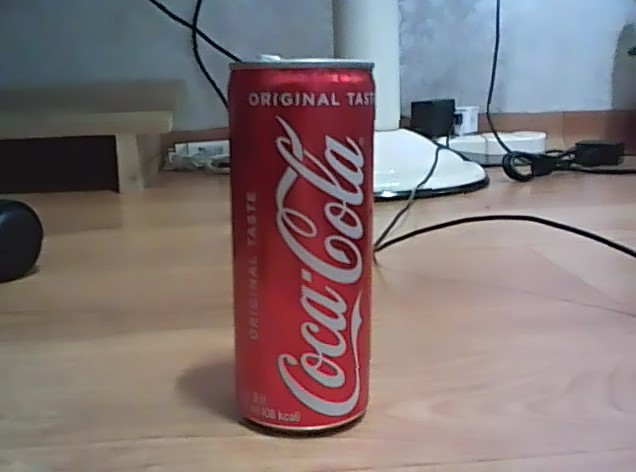Can: (221, 50, 376, 442)
